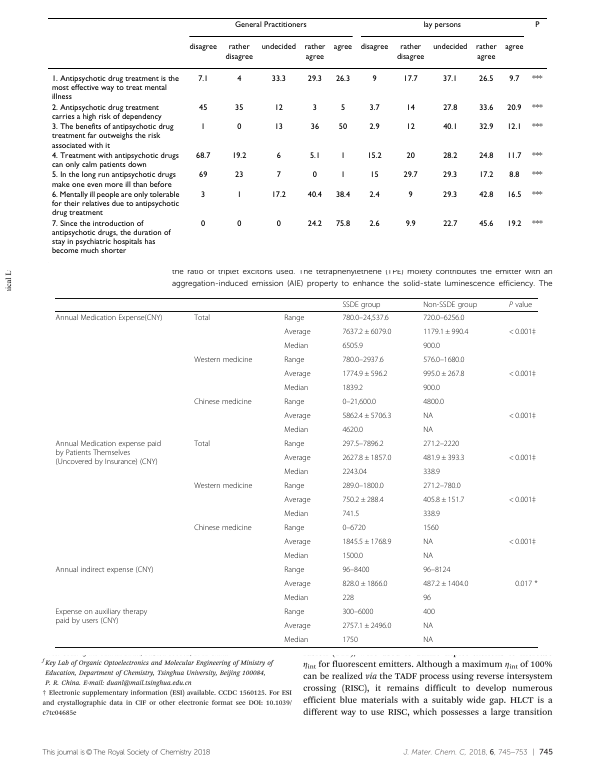borderless: (54, 296, 538, 647), (46, 16, 548, 264)
cell: (50, 219, 171, 256), (50, 190, 180, 218), (50, 74, 179, 102), (50, 122, 174, 151), (55, 439, 162, 467), (50, 170, 176, 190), (50, 151, 179, 170), (50, 103, 162, 122), (55, 607, 148, 626), (55, 313, 163, 323), (55, 565, 154, 575), (233, 20, 307, 30), (193, 355, 253, 365), (193, 481, 253, 491), (193, 397, 252, 407), (193, 523, 252, 533), (395, 43, 425, 62), (224, 43, 253, 62), (341, 327, 392, 337), (341, 411, 392, 421), (341, 453, 392, 463), (341, 537, 392, 547), (341, 621, 392, 631), (422, 300, 478, 309), (341, 313, 390, 323), (422, 327, 469, 337), (341, 369, 388, 379), (341, 579, 388, 589), (422, 579, 469, 589), (341, 495, 385, 505), (303, 43, 326, 62), (474, 43, 497, 62), (422, 313, 465, 323), (341, 355, 384, 365), (422, 355, 465, 365), (422, 369, 465, 379), (341, 439, 384, 449), (422, 453, 465, 463), (341, 481, 384, 491), (422, 495, 465, 505), (422, 20, 461, 30), (422, 481, 461, 491), (422, 439, 460, 449), (341, 300, 381, 309), (341, 397, 377, 407), (341, 607, 374, 617), (260, 43, 296, 52), (432, 43, 468, 52), (508, 327, 537, 337), (508, 369, 537, 379), (508, 411, 537, 421), (508, 453, 537, 463), (508, 495, 537, 505), (508, 537, 537, 547), (341, 565, 370, 575), (422, 565, 451, 575), (283, 327, 311, 337), (283, 369, 311, 379), (283, 411, 311, 421), (283, 453, 311, 463), (283, 495, 311, 505), (283, 537, 311, 547), (283, 579, 311, 589), (283, 621, 311, 631), (359, 43, 389, 52), (341, 467, 368, 477), (188, 43, 217, 52), (283, 341, 309, 351), (283, 383, 309, 393), (283, 425, 309, 435), (283, 467, 309, 477), (283, 509, 309, 519), (341, 523, 367, 533), (283, 551, 309, 561), (283, 593, 309, 603), (283, 635, 309, 645), (514, 579, 538, 589), (341, 341, 364, 351), (341, 383, 364, 393), (422, 397, 445, 407), (341, 425, 364, 435), (341, 551, 364, 561), (508, 300, 533, 309), (283, 313, 305, 323), (283, 355, 305, 365), (283, 397, 305, 407), (283, 439, 305, 449), (283, 481, 305, 491), (283, 523, 305, 533), (283, 565, 305, 575), (283, 607, 305, 617), (422, 341, 441, 351), (422, 383, 441, 393), (422, 467, 441, 477), (341, 509, 360, 519), (422, 509, 441, 519), (332, 43, 353, 52), (504, 43, 524, 52), (193, 313, 211, 323), (193, 439, 211, 449), (422, 523, 440, 533), (341, 635, 359, 645), (334, 190, 351, 200), (334, 219, 351, 229), (270, 74, 286, 84), (306, 74, 322, 84), (334, 74, 350, 84), (402, 74, 418, 84), (442, 74, 458, 84), (478, 74, 494, 84), (442, 103, 458, 113), (478, 103, 494, 113), (506, 103, 522, 113), (442, 122, 458, 132), (478, 122, 494, 132), (506, 122, 522, 132), (195, 151, 211, 161), (231, 151, 247, 161), (366, 151, 382, 161), (442, 151, 458, 161), (478, 151, 494, 161), (506, 151, 522, 161), (402, 170, 418, 180), (442, 170, 458, 180), (478, 170, 494, 180), (270, 190, 286, 200), (306, 190, 322, 200), (442, 190, 458, 200), (478, 190, 494, 200), (506, 190, 522, 200), (306, 219, 322, 229), (442, 219, 458, 229), (478, 219, 494, 229), (506, 219, 522, 229), (341, 593, 355, 603), (422, 607, 436, 617), (197, 74, 209, 84), (508, 74, 520, 84), (531, 74, 543, 84), (368, 103, 380, 113), (531, 103, 543, 113), (368, 122, 380, 132), (531, 122, 543, 132), (308, 151, 320, 161), (531, 151, 543, 161), (508, 170, 520, 180), (531, 170, 543, 180), (368, 190, 380, 200), (531, 190, 543, 200), (368, 219, 380, 229), (404, 219, 416, 229), (531, 219, 543, 229), (422, 411, 434, 421), (422, 425, 434, 435), (422, 537, 434, 547), (422, 551, 434, 561), (422, 621, 434, 631), (422, 635, 434, 645), (309, 122, 320, 132), (337, 122, 348, 132), (198, 103, 208, 113), (234, 103, 244, 113), (273, 103, 283, 113), (405, 103, 415, 113), (273, 122, 283, 132), (405, 122, 415, 132), (405, 151, 415, 161), (198, 170, 208, 180), (234, 170, 244, 180), (369, 170, 379, 180), (422, 593, 432, 603), (339, 103, 346, 113), (339, 151, 346, 161), (339, 170, 346, 180), (534, 20, 540, 30), (236, 74, 242, 84), (371, 74, 377, 84), (311, 103, 317, 113), (200, 122, 206, 132), (236, 122, 242, 132), (275, 151, 281, 161), (275, 170, 281, 180), (311, 170, 317, 180), (200, 190, 206, 200), (236, 190, 242, 200), (407, 190, 413, 200), (200, 219, 206, 229), (236, 219, 242, 229), (275, 219, 281, 229)
